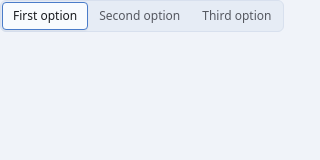
Test case: chooses by a click
Later steps or results of the test are not shown.
Click the radio button labelled "Third option" at (237, 16), box [202,7,272,24]
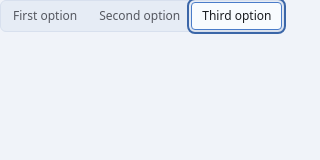
Now the radio button labelled "Third option" is checked, box [191,2,282,30]
